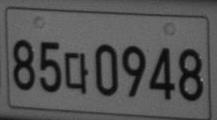0: (93, 43, 118, 96)
4: (149, 47, 175, 100)
5: (38, 41, 62, 93)
8: (178, 47, 204, 101), (11, 38, 35, 91)
9: (121, 44, 146, 96)
다: (64, 51, 88, 94)
